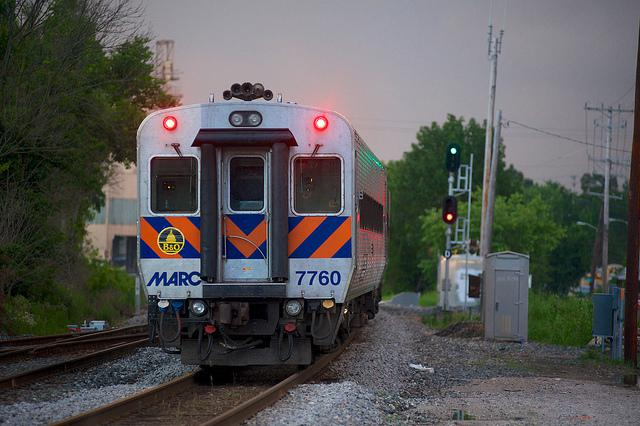Train: (139, 85, 390, 370)
